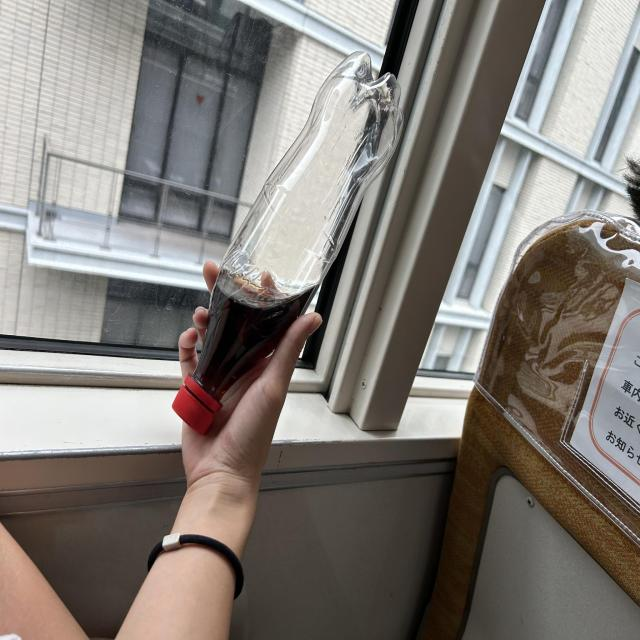low: (172, 52, 402, 434)
